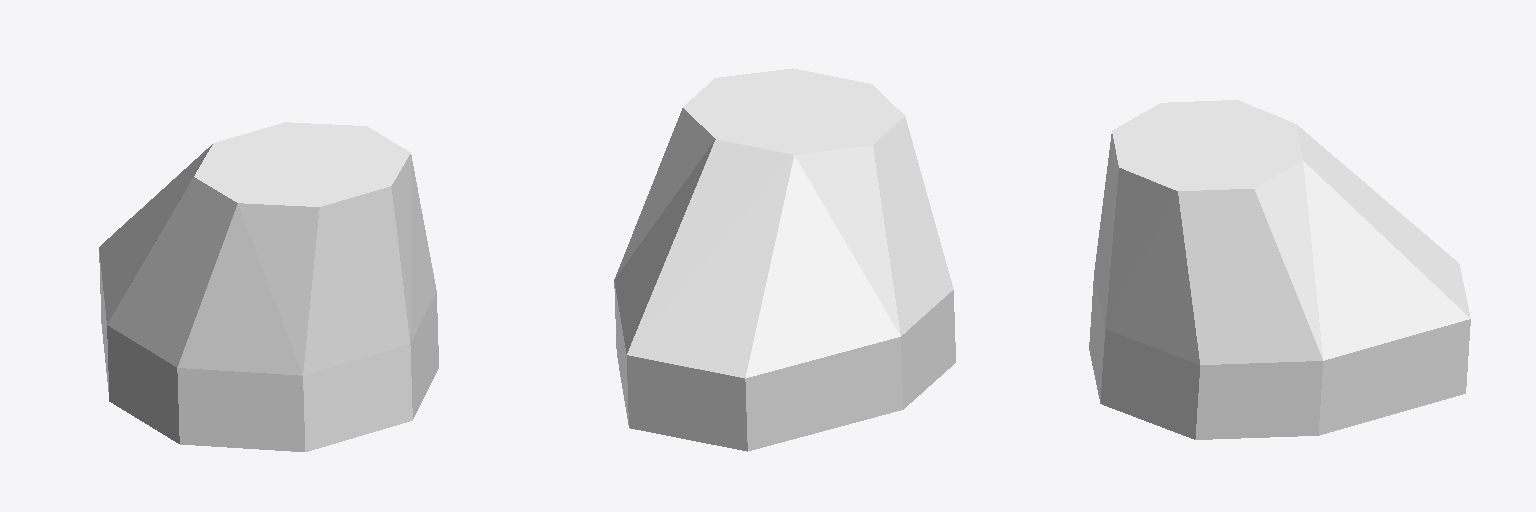
File: FootL.obj
The picture shows the model from 3 angles: view 1: azimuth 30°, elevation 25°; view 2: azimuth 150°, elevation 25°; view 3: azimuth 270°, elevation 25°; orthographic projection.
Parts seen in each view (by area): view 1: Footl1; view 2: Footl1; view 3: Footl1.
Boxes of the visible parts, x1,y1,x2,y2 form: Footl1: [99, 122, 438, 451]; Footl1: [614, 68, 955, 451]; Footl1: [1089, 100, 1470, 439].
Bounding box in the file's own units: 1.29 × 1.01 × 1.51.